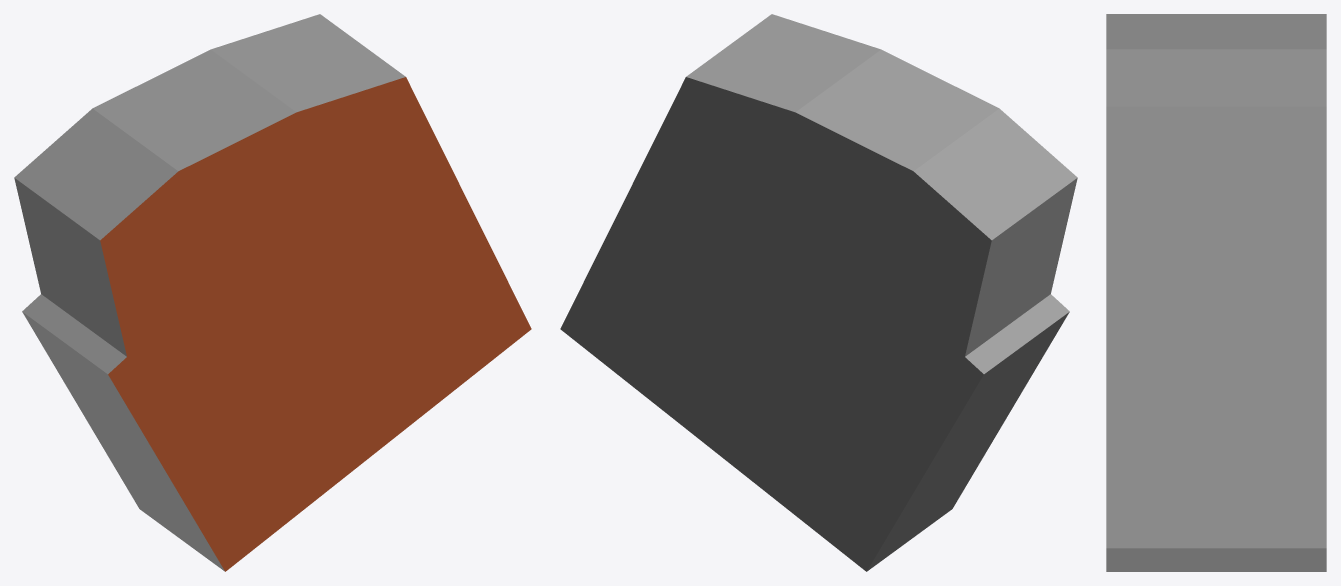
File: construction_6062_assumed_A_Casa_h6m.obj
3 renders of one model, left to right at view 1: azimuth 30°, elevation 25°; view 2: azimuth 150°, elevation 25°; view 3: azimuth 270°, elevation 25°, orthographic. The views are drawn at different scales.
Visible parts, largest first — view 1: construction_6062_assumed_A_Casa; view 2: construction_6062_assumed_A_Casa; view 3: construction_6062_assumed_A_Casa.
Part boxes in pixels (x1,y1,x2,y2): construction_6062_assumed_A_Casa: [14, 14, 531, 571]; construction_6062_assumed_A_Casa: [560, 14, 1077, 571]; construction_6062_assumed_A_Casa: [1106, 14, 1326, 571].
Bounding box in the file's own units: 17.4 × 17.37 × 6.
